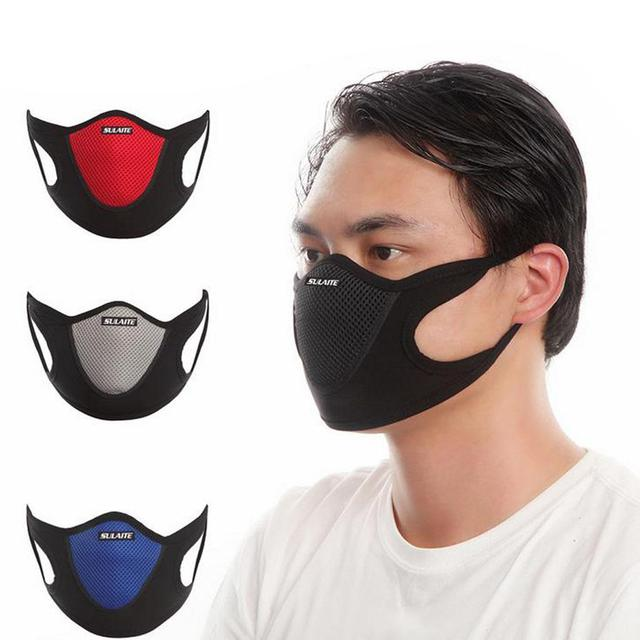mask: (279, 271, 471, 431)
